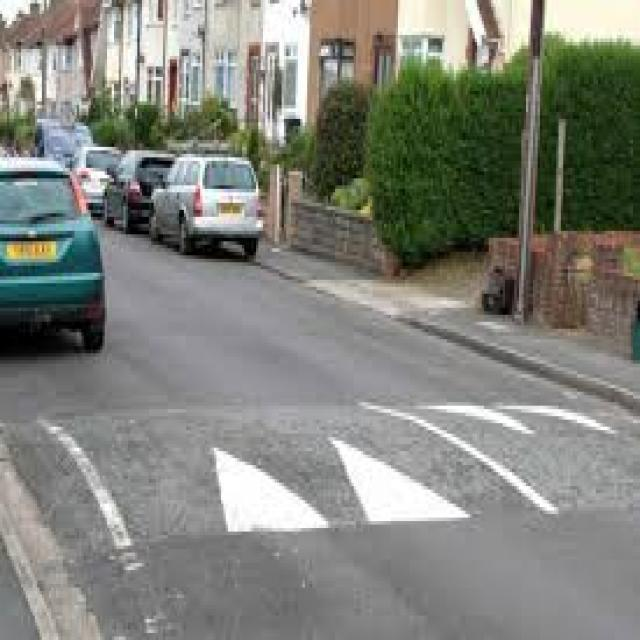Marked Bump: (50, 376, 628, 546)
